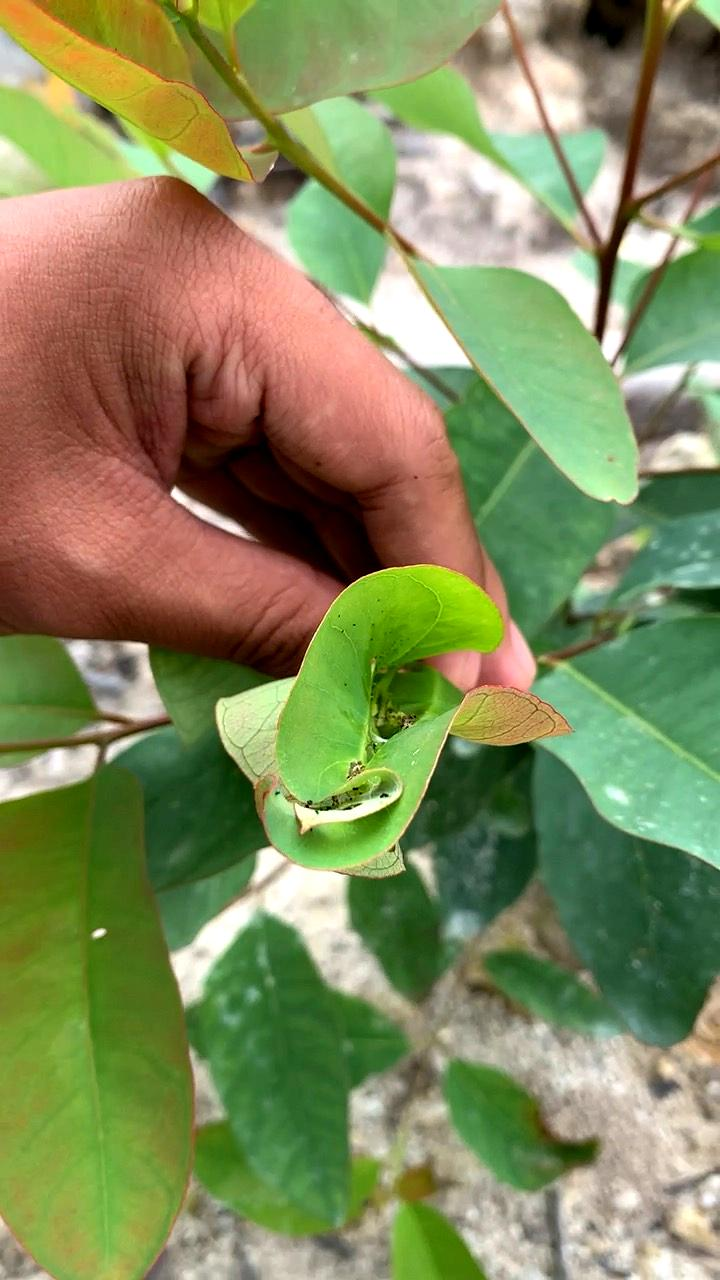Leaf Roller - Leaf: (219, 553, 561, 906)
